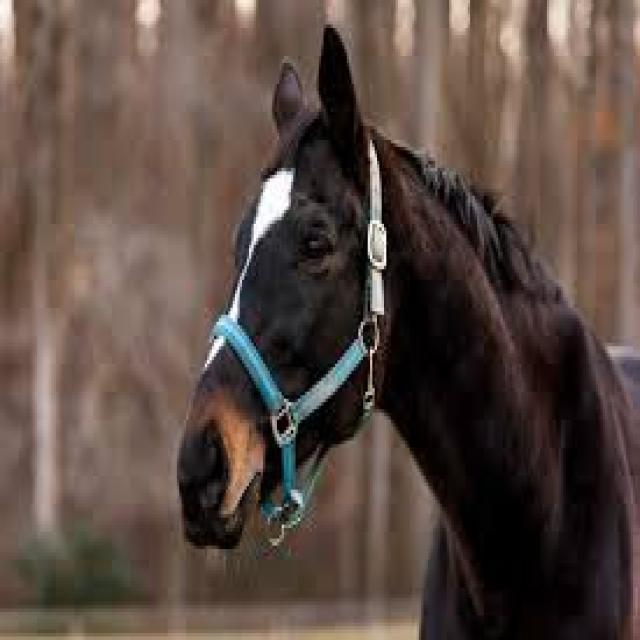Horse: (172, 56, 638, 640)
